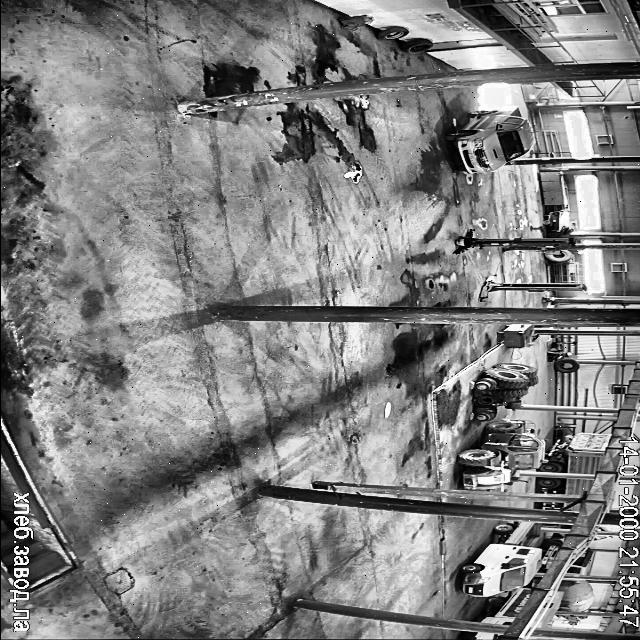class6: (458, 420, 544, 489), (474, 362, 538, 420)
class7: (460, 521, 541, 596), (445, 109, 534, 173), (540, 432, 612, 474), (482, 588, 532, 624), (557, 580, 594, 612), (539, 477, 591, 494), (537, 592, 560, 628), (540, 537, 563, 572), (567, 548, 595, 574), (464, 632, 500, 640), (541, 498, 567, 509), (564, 616, 582, 623), (566, 505, 580, 511)
tractor: (340, 16, 372, 28)
truck: (454, 229, 574, 253), (479, 275, 586, 300)
